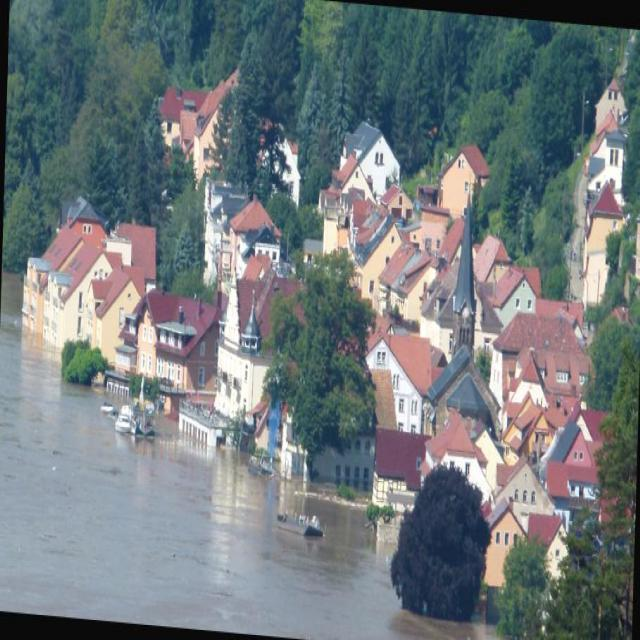flood: (0, 315, 401, 638)
